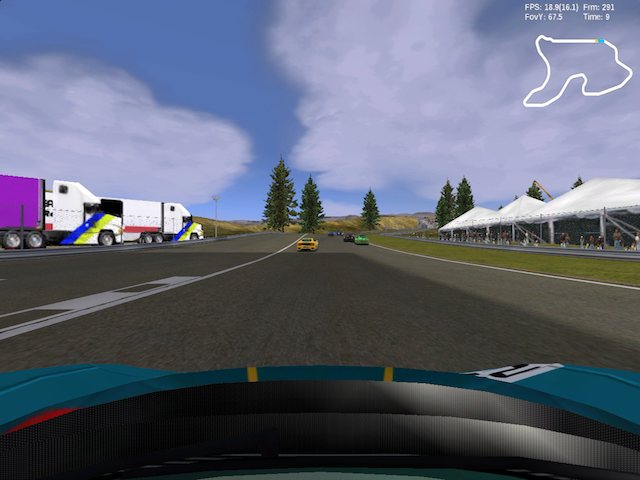Boxer96: (355, 236, 370, 246)
Cavallo360: (297, 238, 319, 251)
Spirit300: (342, 235, 355, 242)
